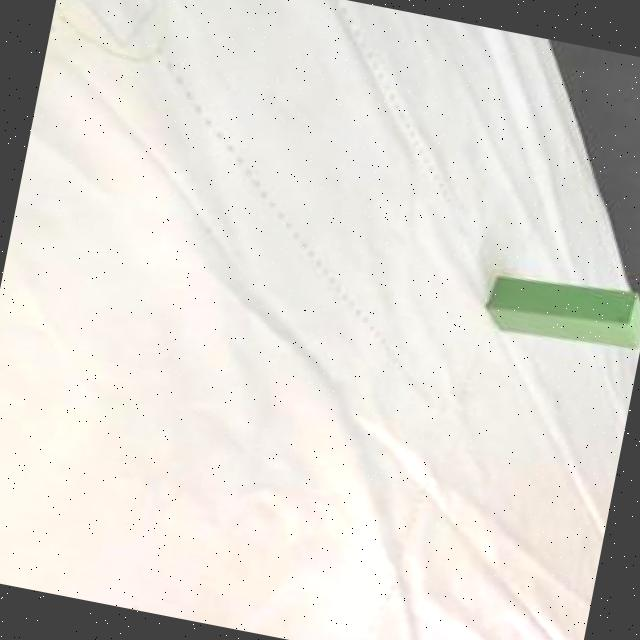greenbox: (481, 261, 640, 358)
